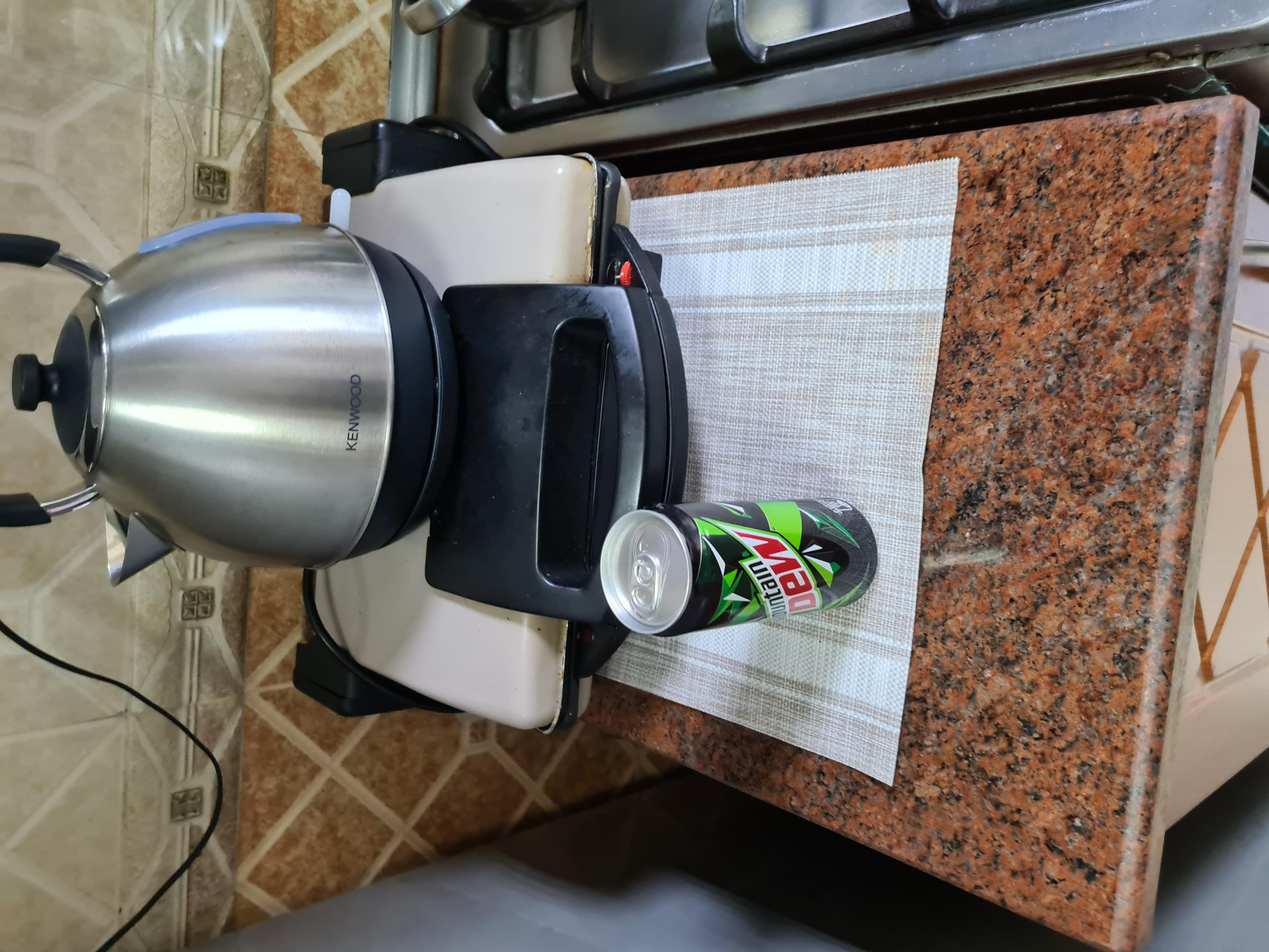debris: (589, 479, 890, 648)
